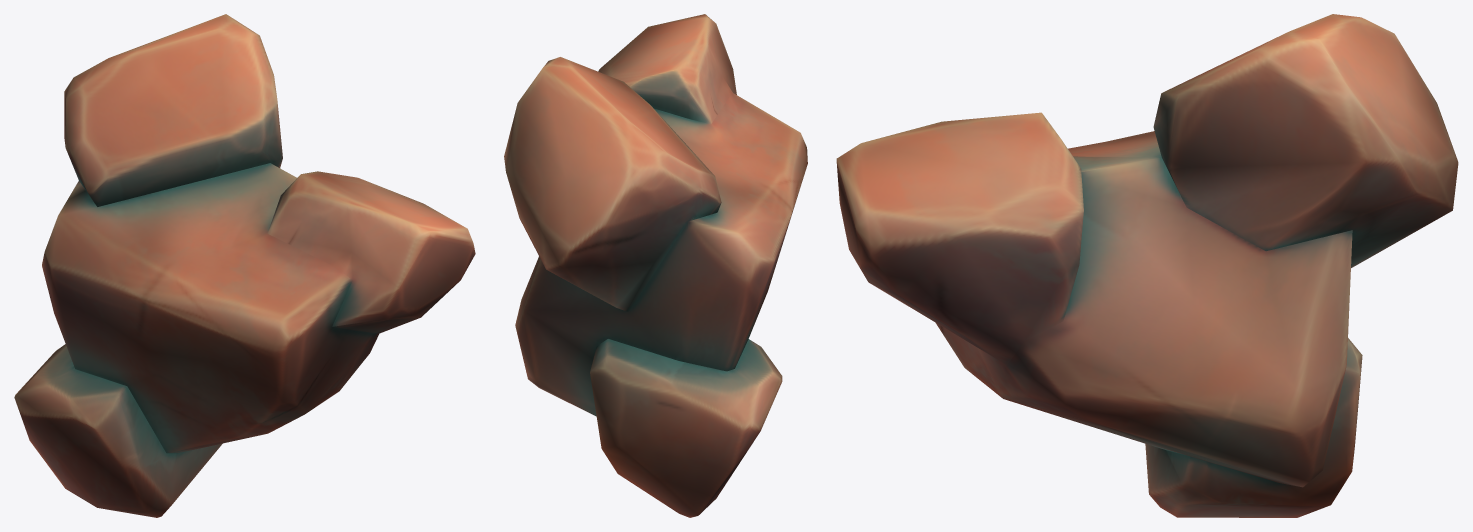
Rendered from SM_Gem_Copper_001.fbx.
3 views of the same model, side by side, from view 1: azimuth 30°, elevation 25°; view 2: azimuth 150°, elevation 25°; view 3: azimuth 270°, elevation 25° (orthographic). The views are drawn at different scales.
Visible parts, largest first — view 1: SM_Gem_Copper_001; view 2: SM_Gem_Copper_001; view 3: SM_Gem_Copper_001.
Boxes of the visible parts, box(x1,y1,x2,y2) form: SM_Gem_Copper_001: box(14, 14, 475, 517); SM_Gem_Copper_001: box(504, 14, 807, 517); SM_Gem_Copper_001: box(836, 14, 1458, 517).
Size of the model in its own units: 37.96 by 55.08 by 54.47.
